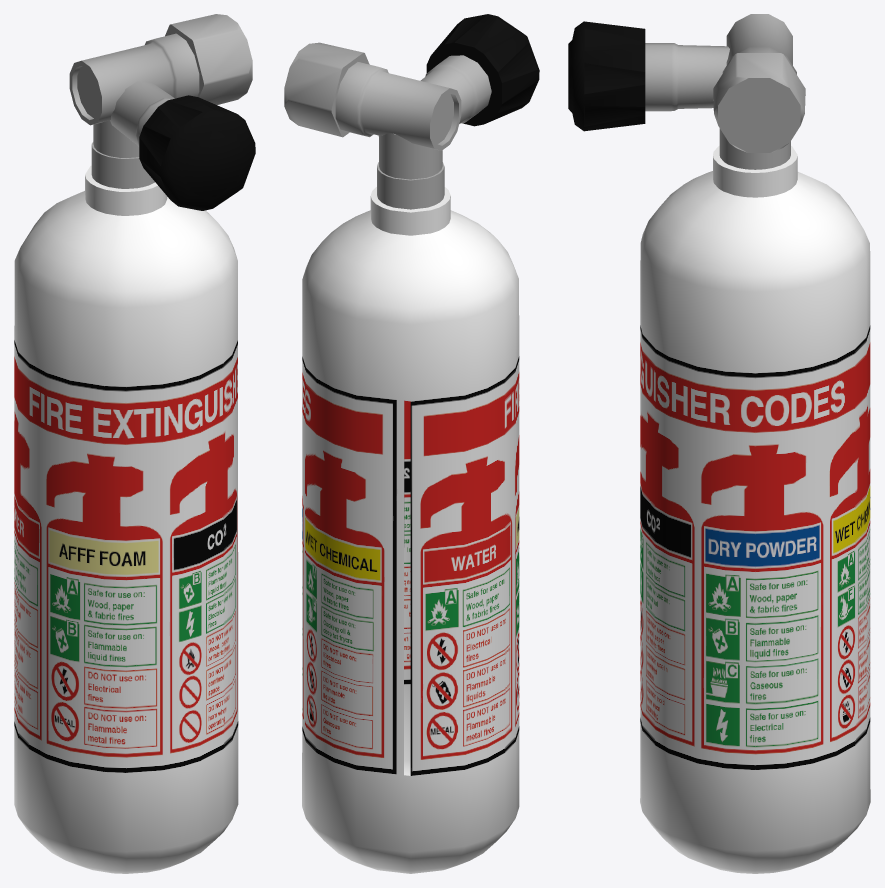
Rendered from oksijentupu.fbx.
3 renders of one model, left to right at view 1: azimuth 30°, elevation 25°; view 2: azimuth 150°, elevation 25°; view 3: azimuth 270°, elevation 25°, orthographic. The views are drawn at different scales.
Parts seen in each view (by area): view 1: Circle; view 2: Circle; view 3: Circle.
Part boxes in pixels (left/top/right/bottom): Circle: left=14, top=14, right=255, bottom=873; Circle: left=284, top=14, right=539, bottom=873; Circle: left=568, top=14, right=870, bottom=873.
Size of the model in its own units: 103 by 387 by 127.
4 materials, 1 textured.
